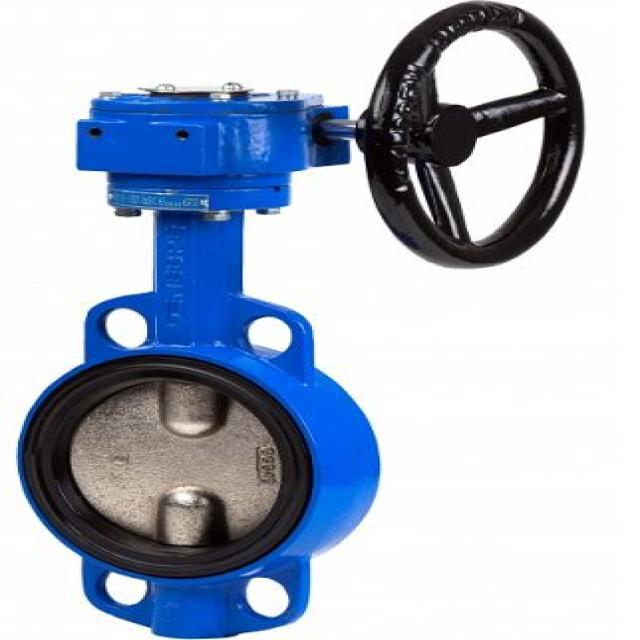Wheel Handle Valve Threaded: (343, 0, 610, 266)
